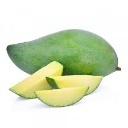mango: (3, 27, 125, 82)
